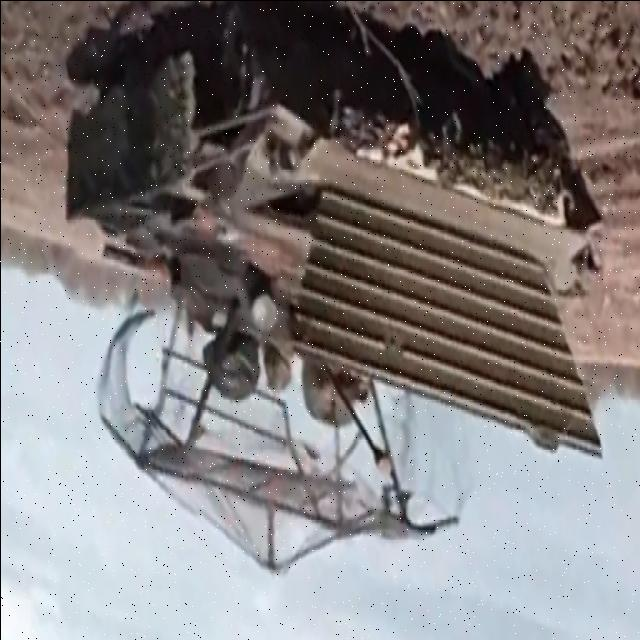APC-IFV: (54, 2, 604, 580)
